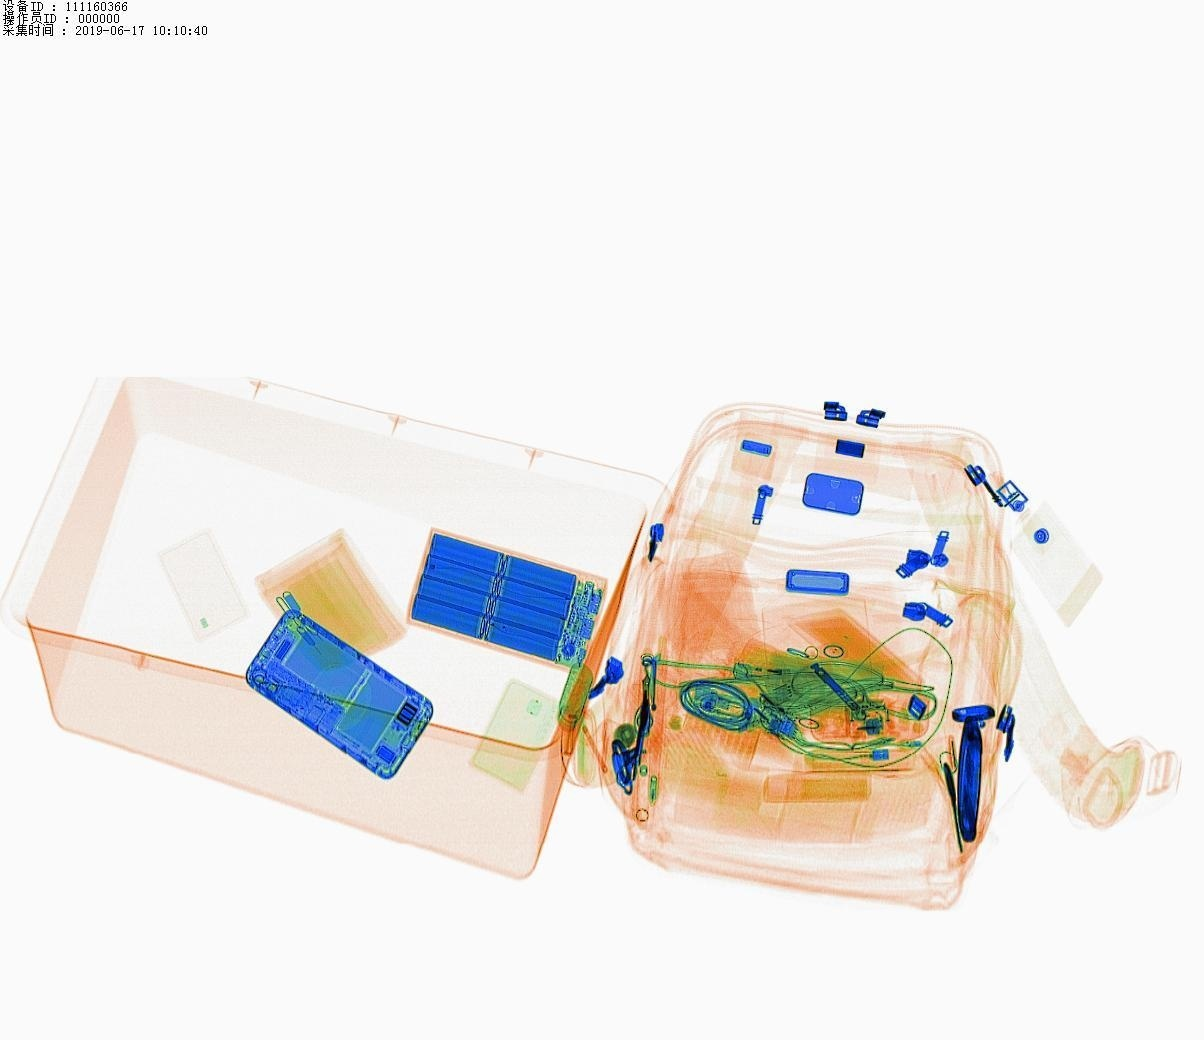NonmetallicFire: (693, 633, 830, 702)
